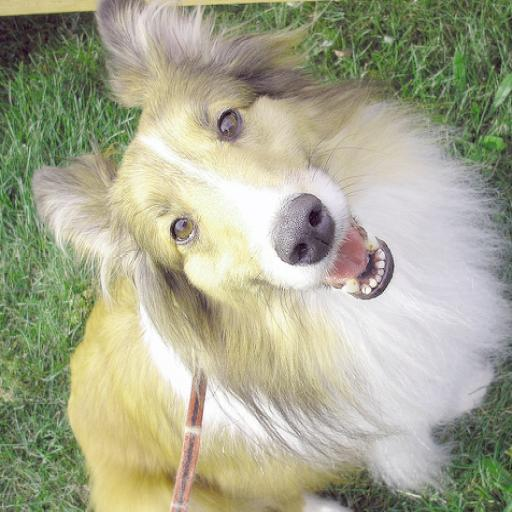dog_face: (29, 0, 412, 322)
